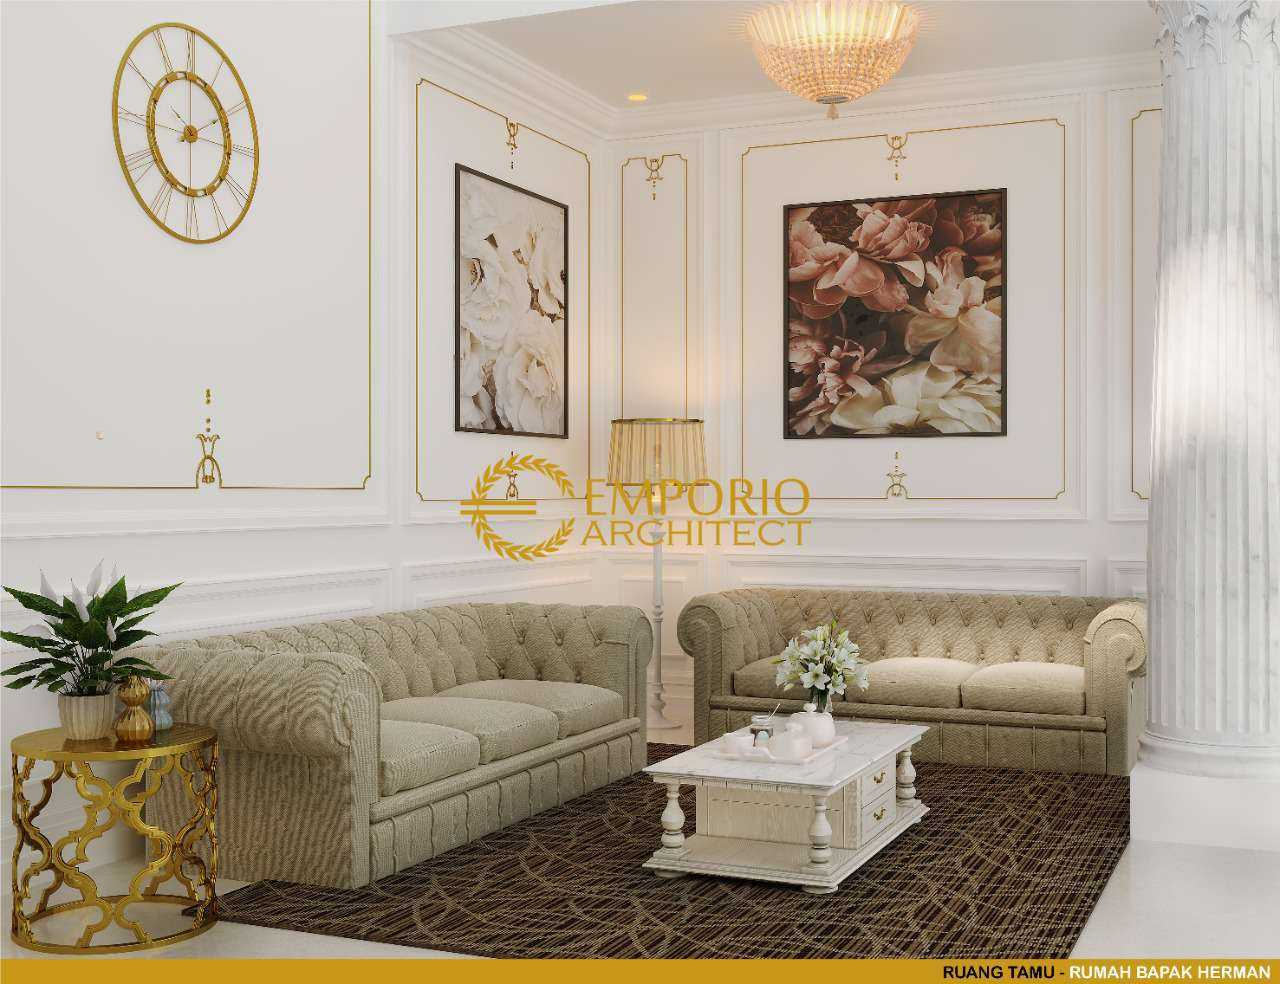gelas: (717, 731, 757, 761)
lampu: (604, 411, 711, 592)
lukisan: (779, 192, 1010, 442), (448, 158, 575, 445)
meja: (641, 716, 940, 894)
sova: (147, 597, 652, 886), (674, 590, 1139, 765)
tanaman: (4, 575, 127, 739)
